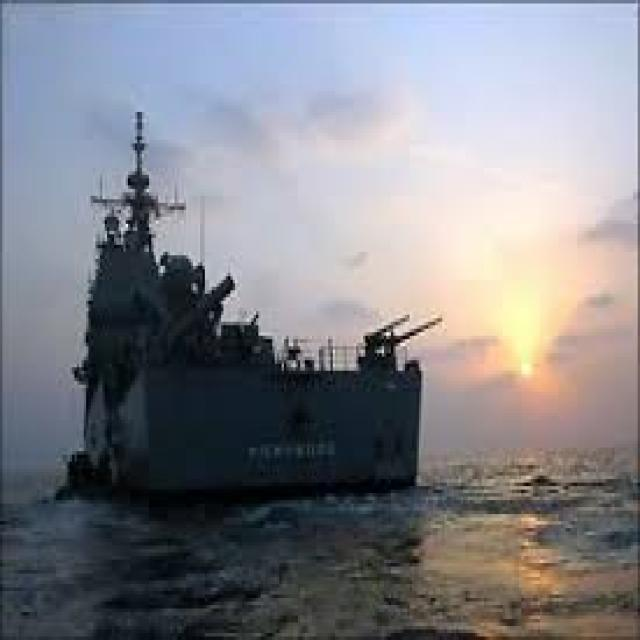navalvessels: (62, 106, 436, 508)
